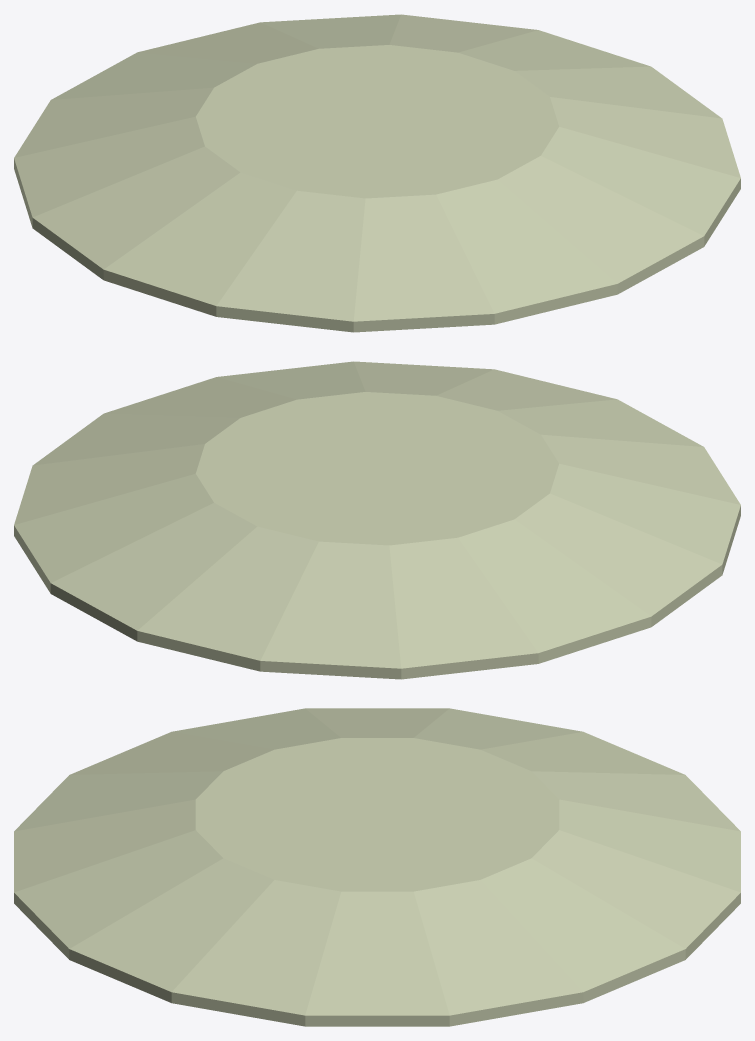
File: Alniyat_Mount_2_Collider.obj
3 views of the same model, one above another, from view 1: azimuth 30°, elevation 25°; view 2: azimuth 150°, elevation 25°; view 3: azimuth 270°, elevation 25° (orthographic).
Parts seen in each view (by area): view 1: Alniyat_Mount_2_Collider; view 2: Alniyat_Mount_2_Collider; view 3: Alniyat_Mount_2_Collider.
Part boxes in pixels (x1,y1,x2,y2): Alniyat_Mount_2_Collider: (14,14,740,332); Alniyat_Mount_2_Collider: (14,361,740,679); Alniyat_Mount_2_Collider: (14,708,740,1026).
Bounding box in the file's own units: 1.88 × 0.1656 × 1.88.
